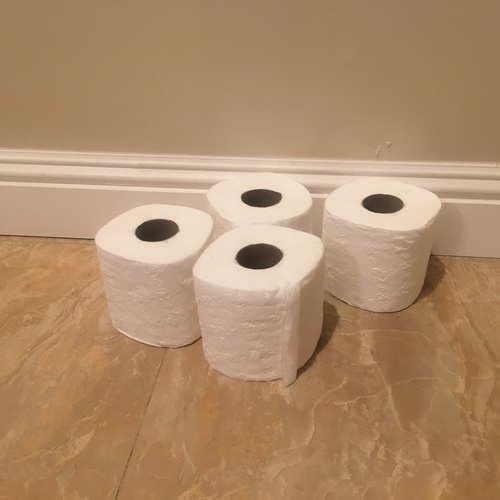roll: (193, 226, 323, 380), (96, 203, 213, 347), (322, 178, 441, 310), (204, 173, 314, 238)
